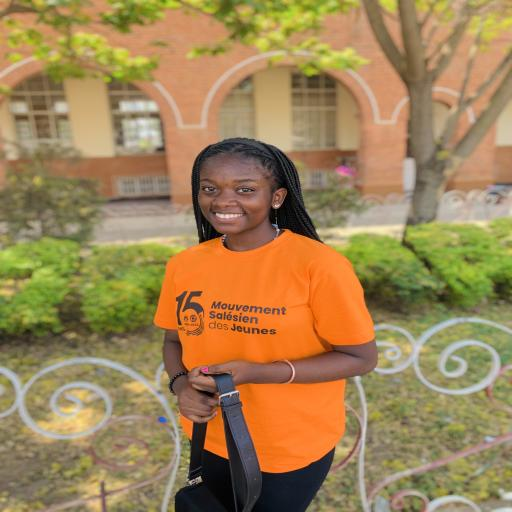LAURENE: (193, 130, 296, 256)
